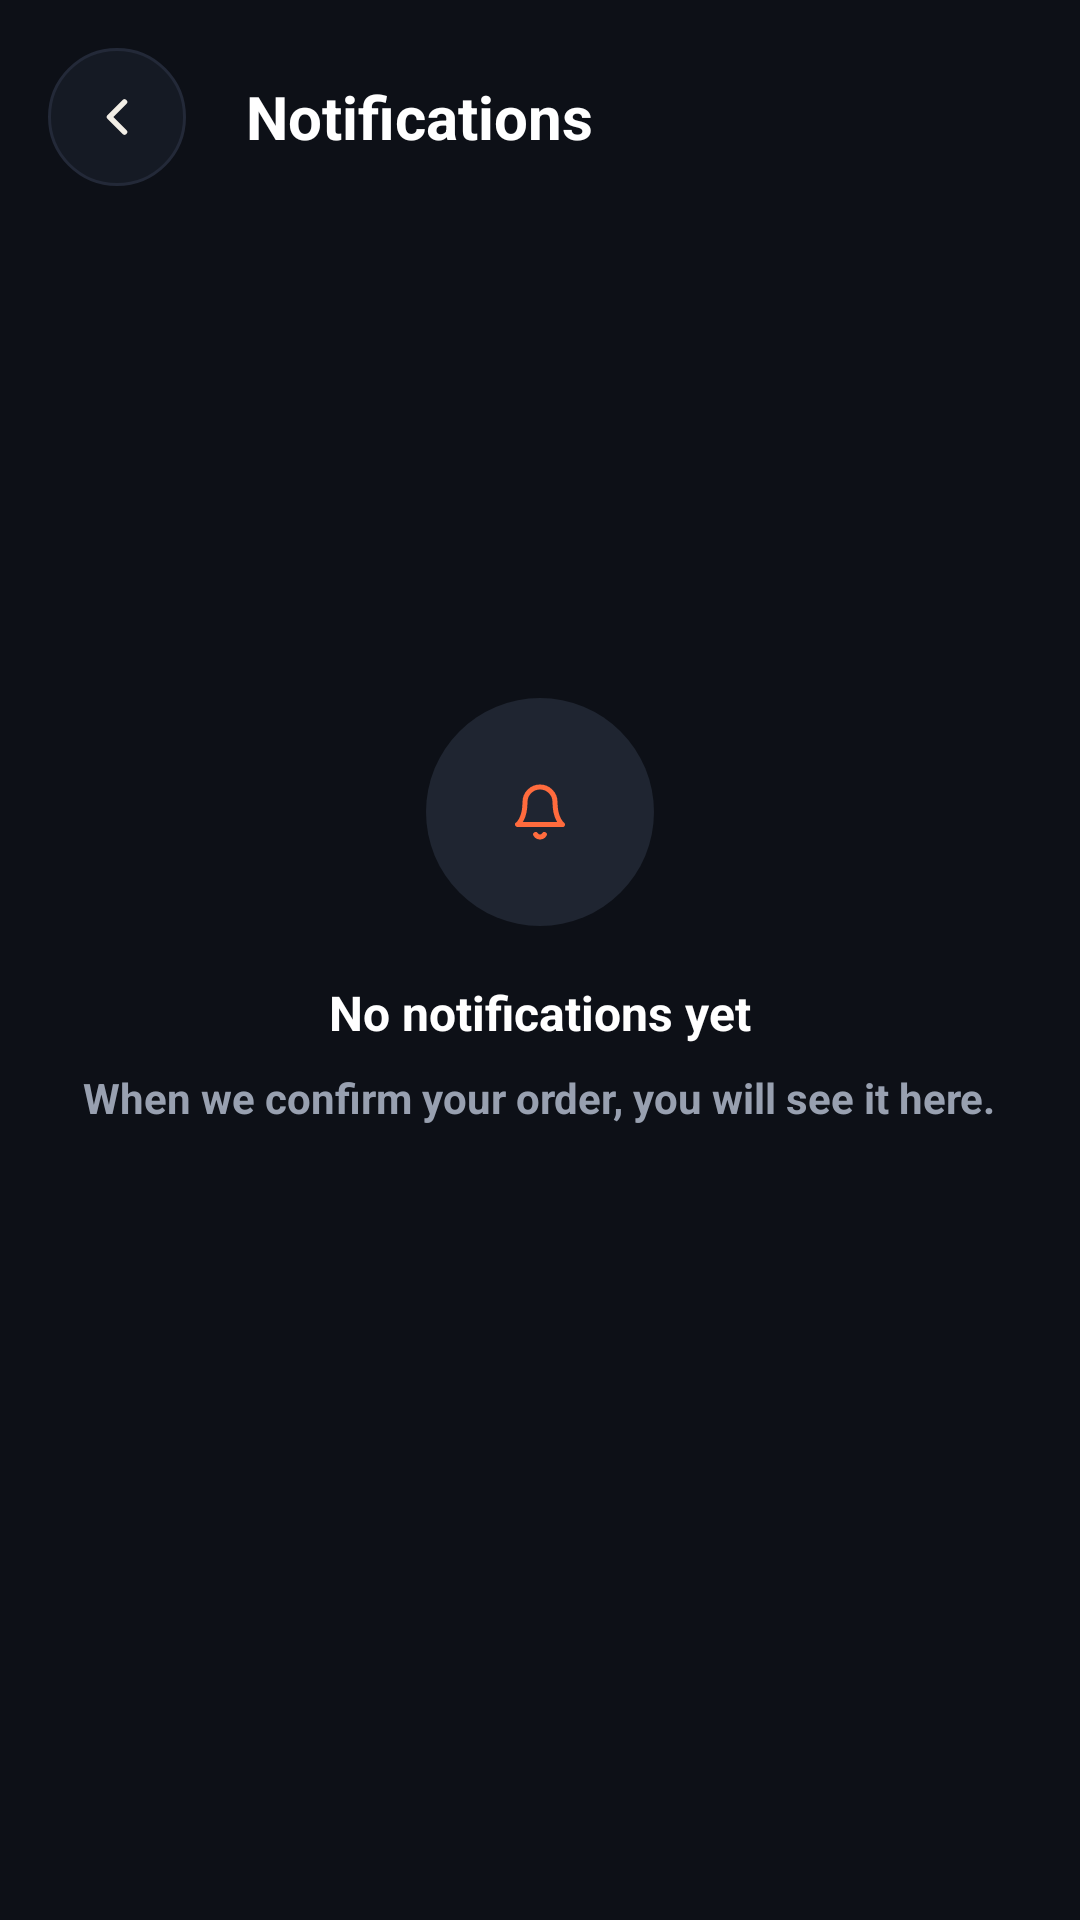

Locate icon controls on the screen. Image size 1080x1920, boxes as (x1, y1, x2, y2).
Back: (48, 48, 186, 186)
